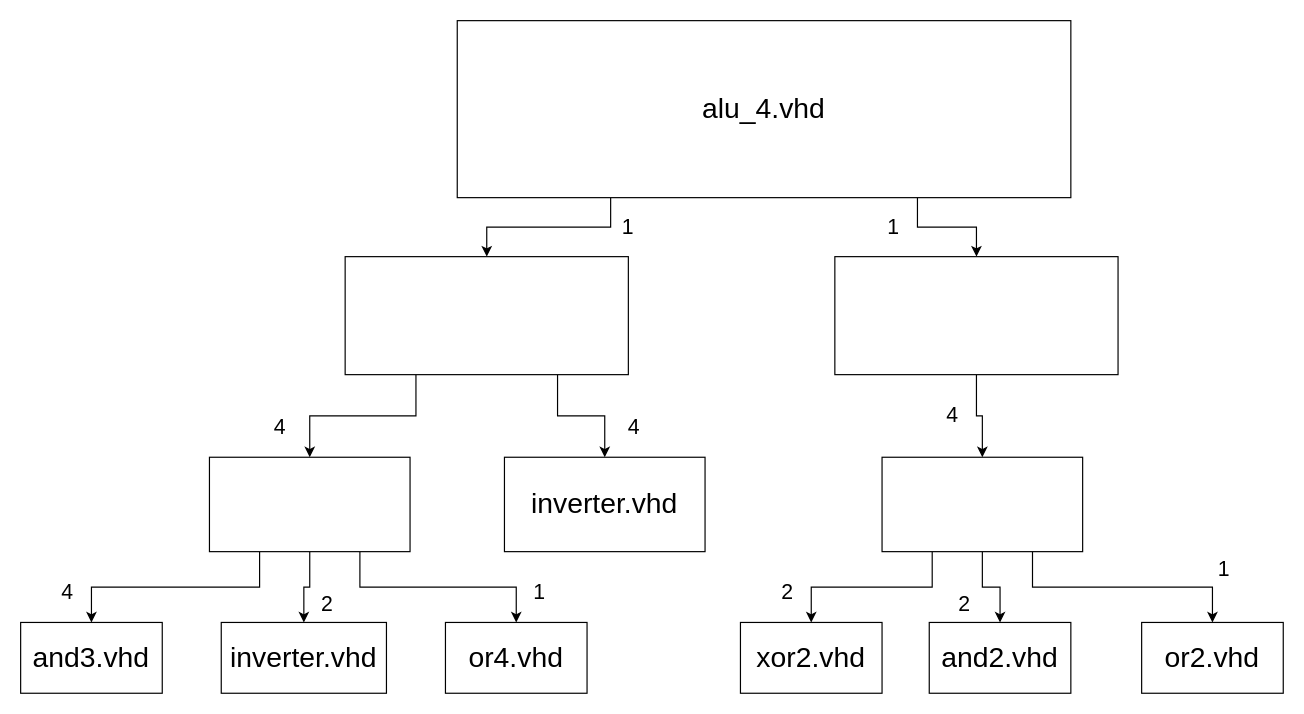
This 1304x714 diagram has some shape labels left out. The shapes that lost their labels are listed below. From the top down, each one's box as (x1, y1, x2, y2) in pixels, then its label:
(344, 255, 628, 375): selector.vhd
(834, 255, 1118, 375): adder4.vhd
(208, 456, 410, 552): mux4.vhd
(881, 456, 1083, 552): fulladder.vhd
